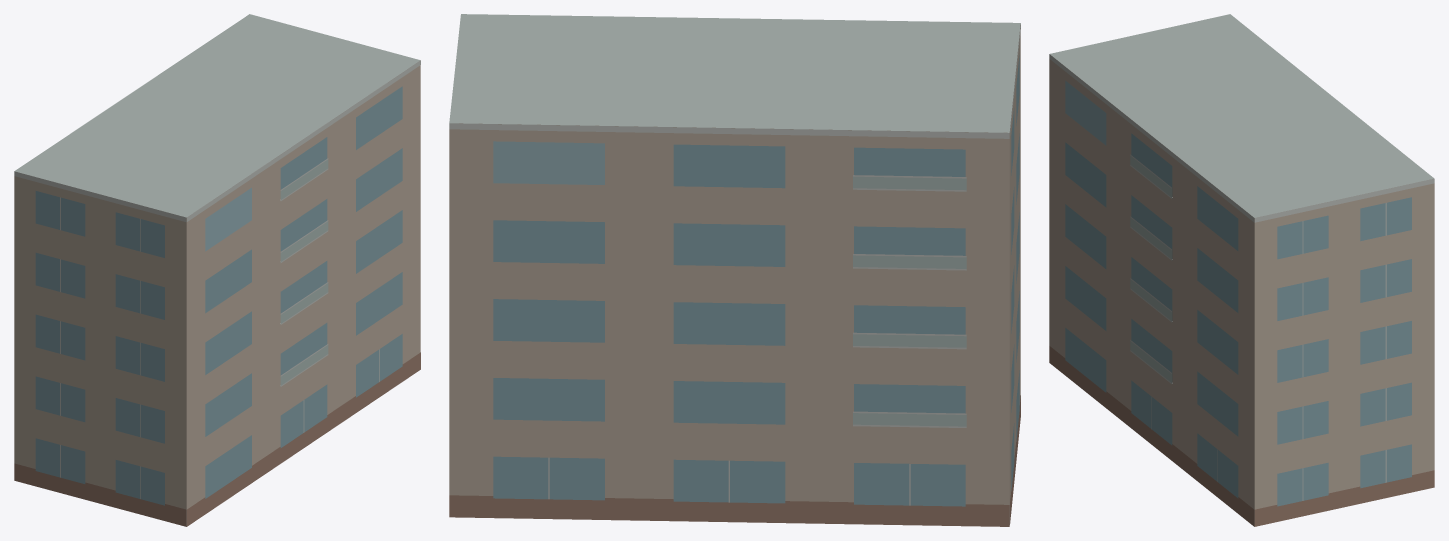
Rendered from survey-upis-33014039.glb.
3 renders of one model, left to right at view 1: azimuth 30°, elevation 25°; view 2: azimuth 150°, elevation 25°; view 3: azimuth 270°, elevation 25°, orthographic. The views are drawn at different scales.
Parts seen in each view (by area): view 1: survey-upis-33014039.tmp; view 2: survey-upis-33014039.tmp; view 3: survey-upis-33014039.tmp.
Boxes of the visible parts, x1,y1,x2,y2 form: survey-upis-33014039.tmp: (14, 14, 420, 526); survey-upis-33014039.tmp: (449, 14, 1020, 526); survey-upis-33014039.tmp: (1049, 14, 1434, 526).
Size of the model in its own units: 22.39 by 15.8 by 17.86.
